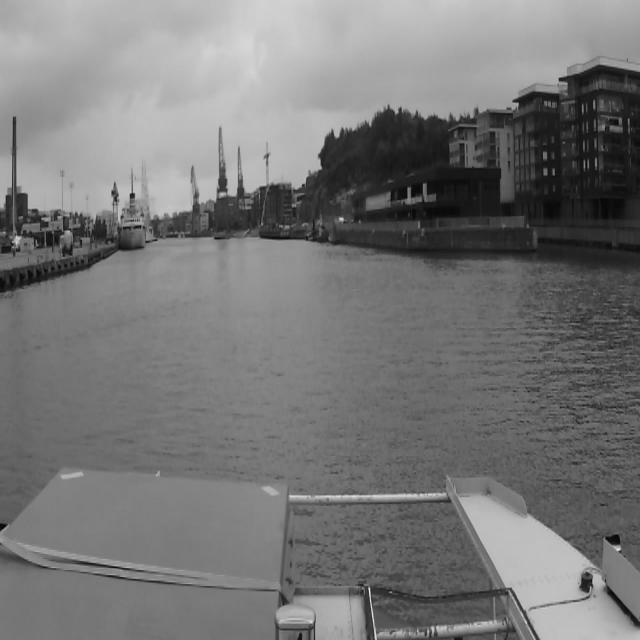ship: (120, 169, 146, 252)
